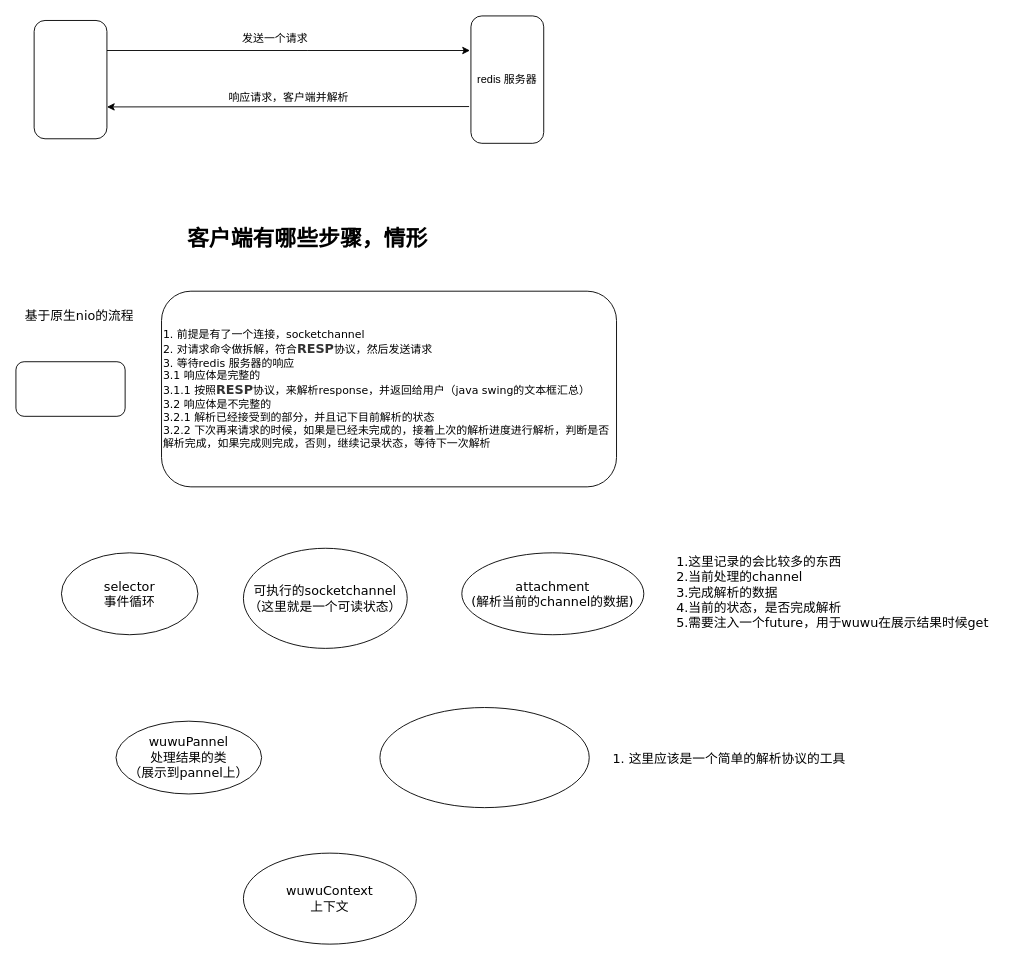
This 1033x960 diagram has some shape labels left out. The shapes that lost their labels are listed below. From the top down, each one's centre as x and y in pixels, then its label:
At pixel 70 79: "redis 客户端".
At pixel 70 388: "发送一个命令的场景".
At pixel 484 757: "protocol 详细的解析协议实现类".
